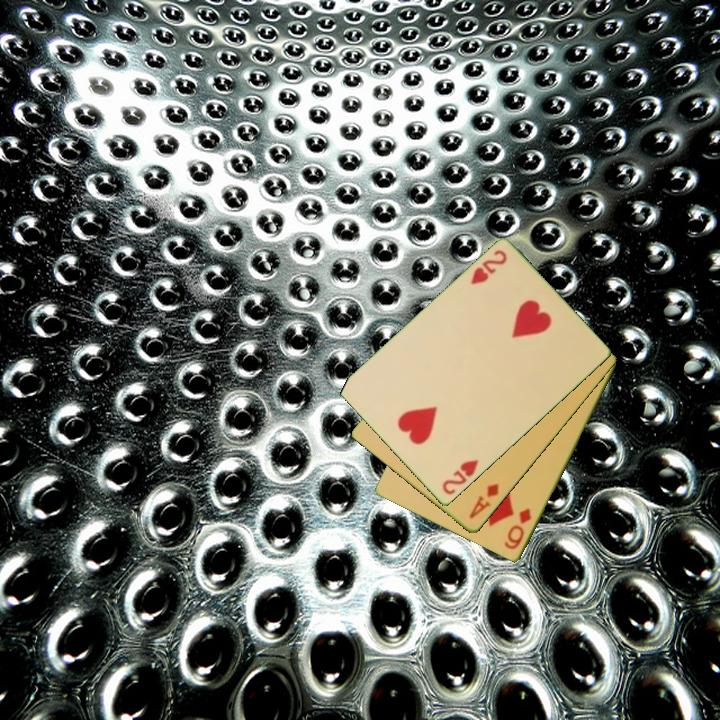2h: (439, 456, 482, 498), (467, 246, 510, 288)
6d: (501, 505, 534, 553)
Ad: (465, 480, 502, 522)
